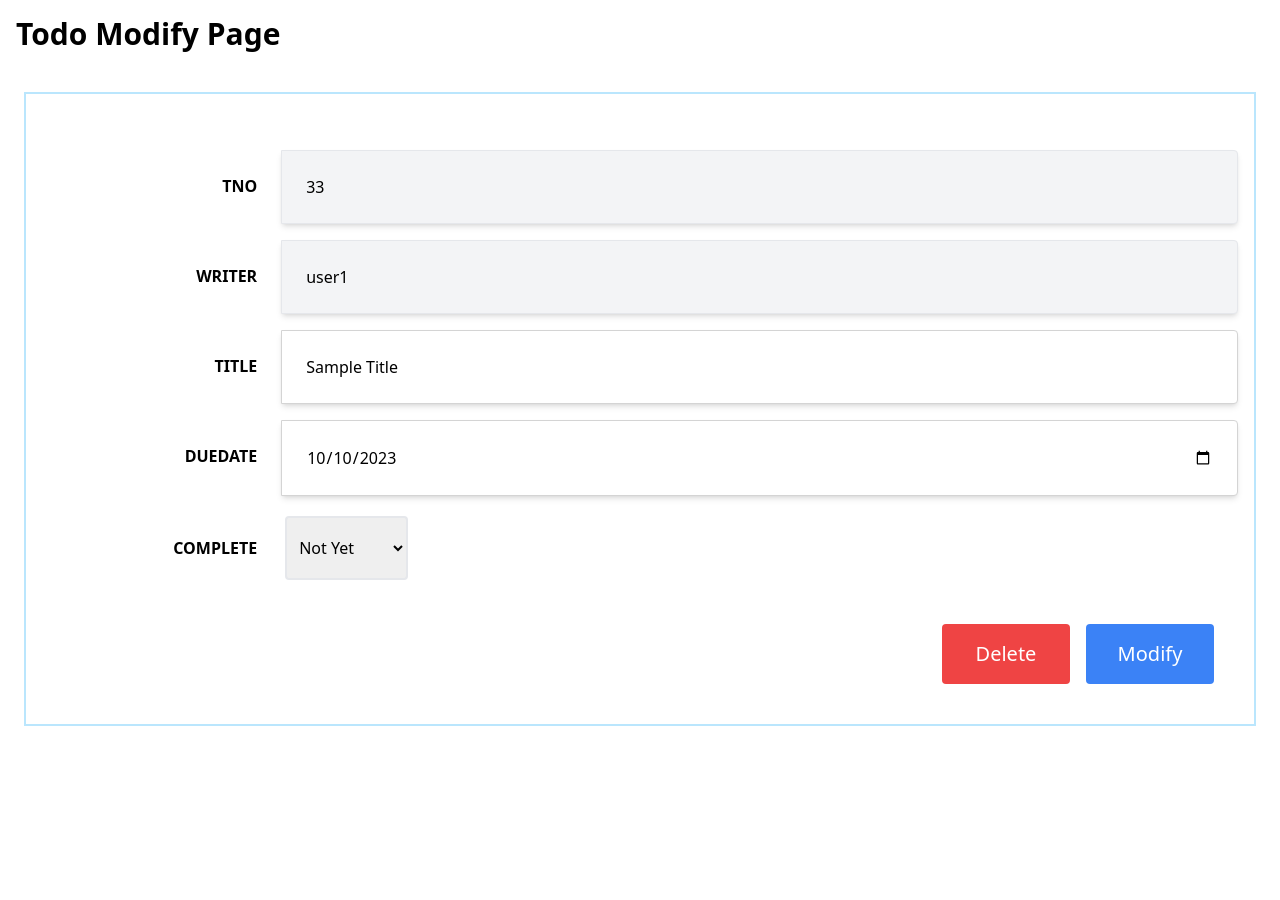
Test: saves changed completion and title, then displays the result modal
This screenshot has width=1280, height=900.
Step 1. Replace the text in the field showing "Sample Title" with "Updated Title" → (760, 367), box top-left (281, 330), bottom-right (1238, 404)
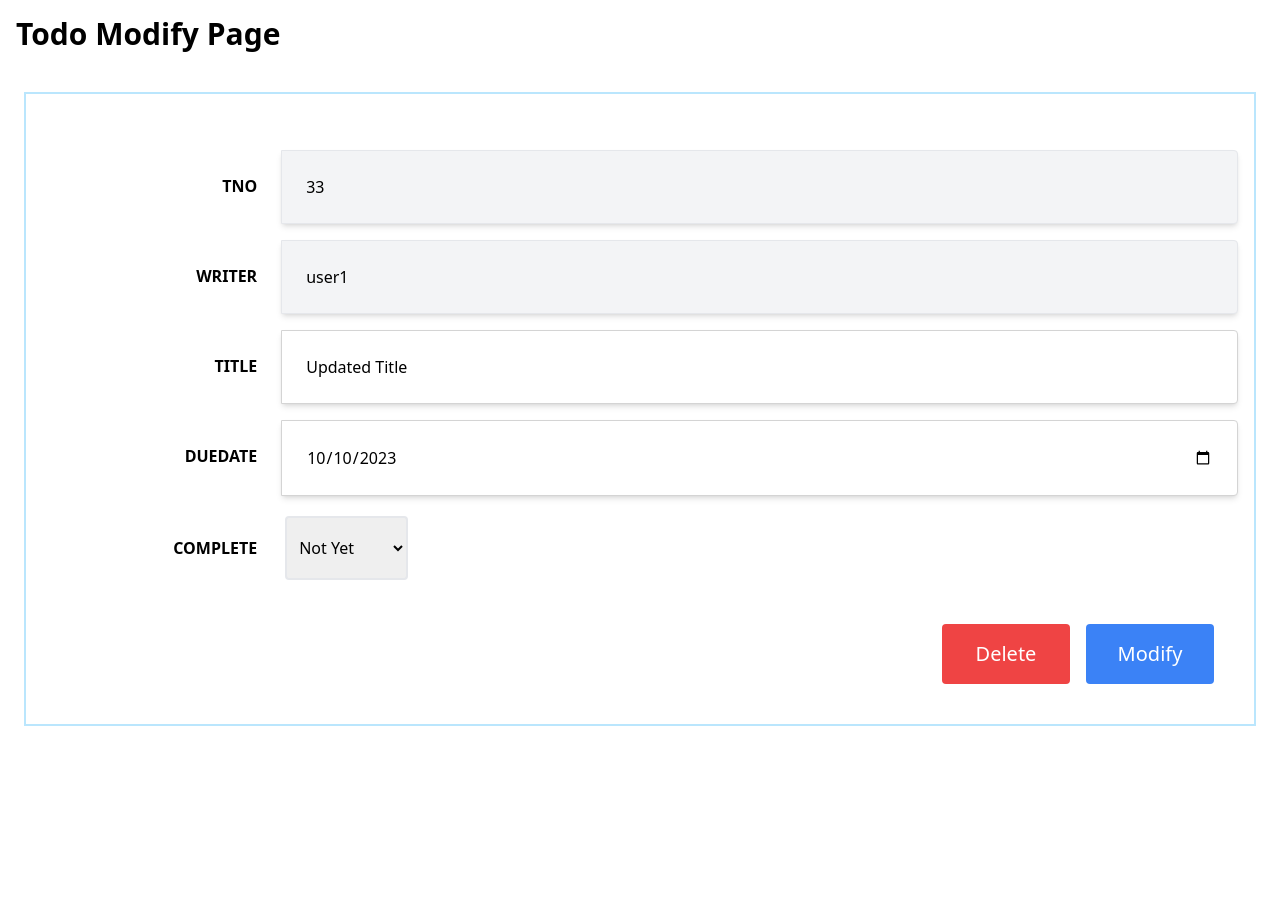
Step 2. Select "Completed" in the dropdown → (347, 548), box top-left (285, 516), bottom-right (408, 580)
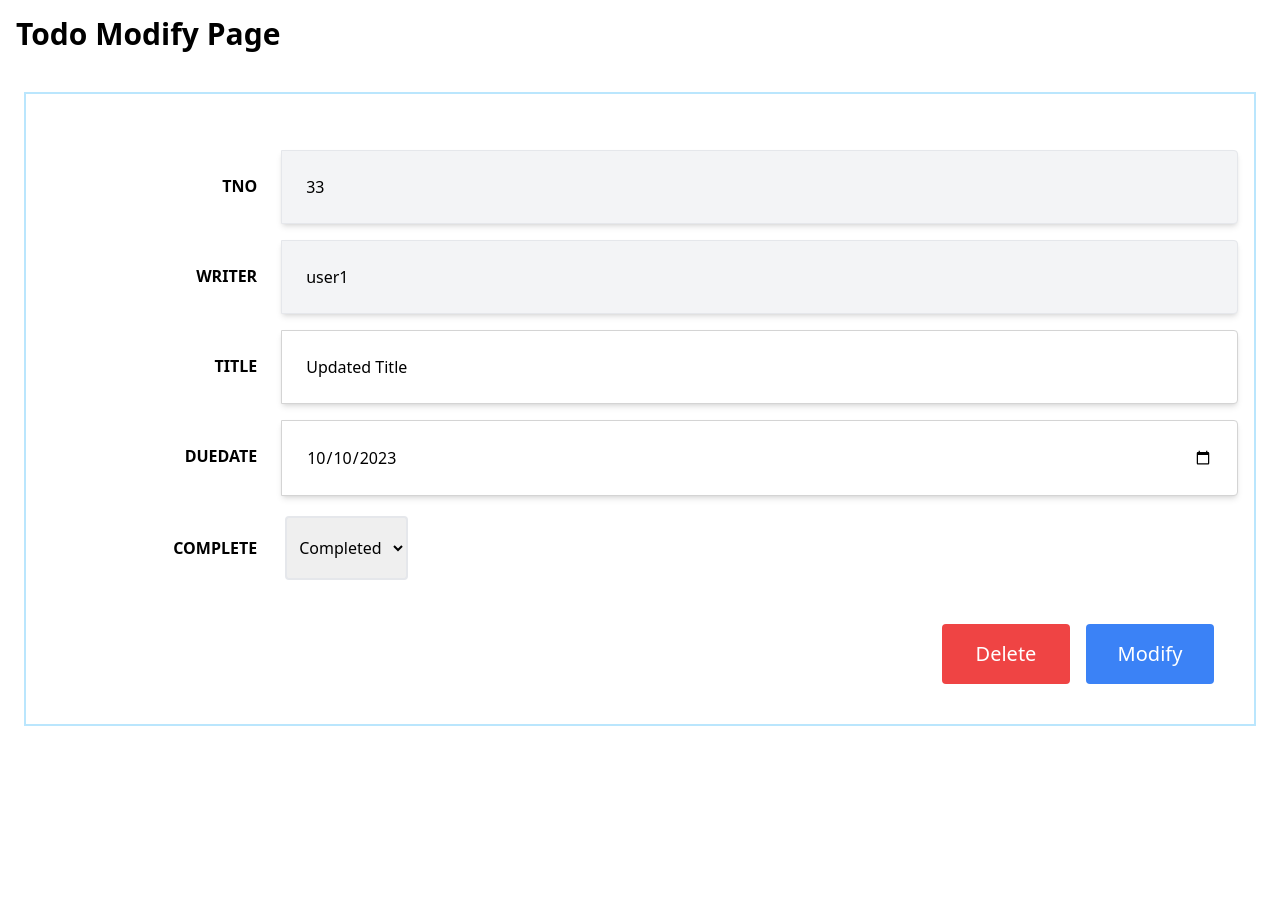
Step 3. Click the button "Modify" → (1150, 654), box top-left (1086, 624), bottom-right (1214, 684)
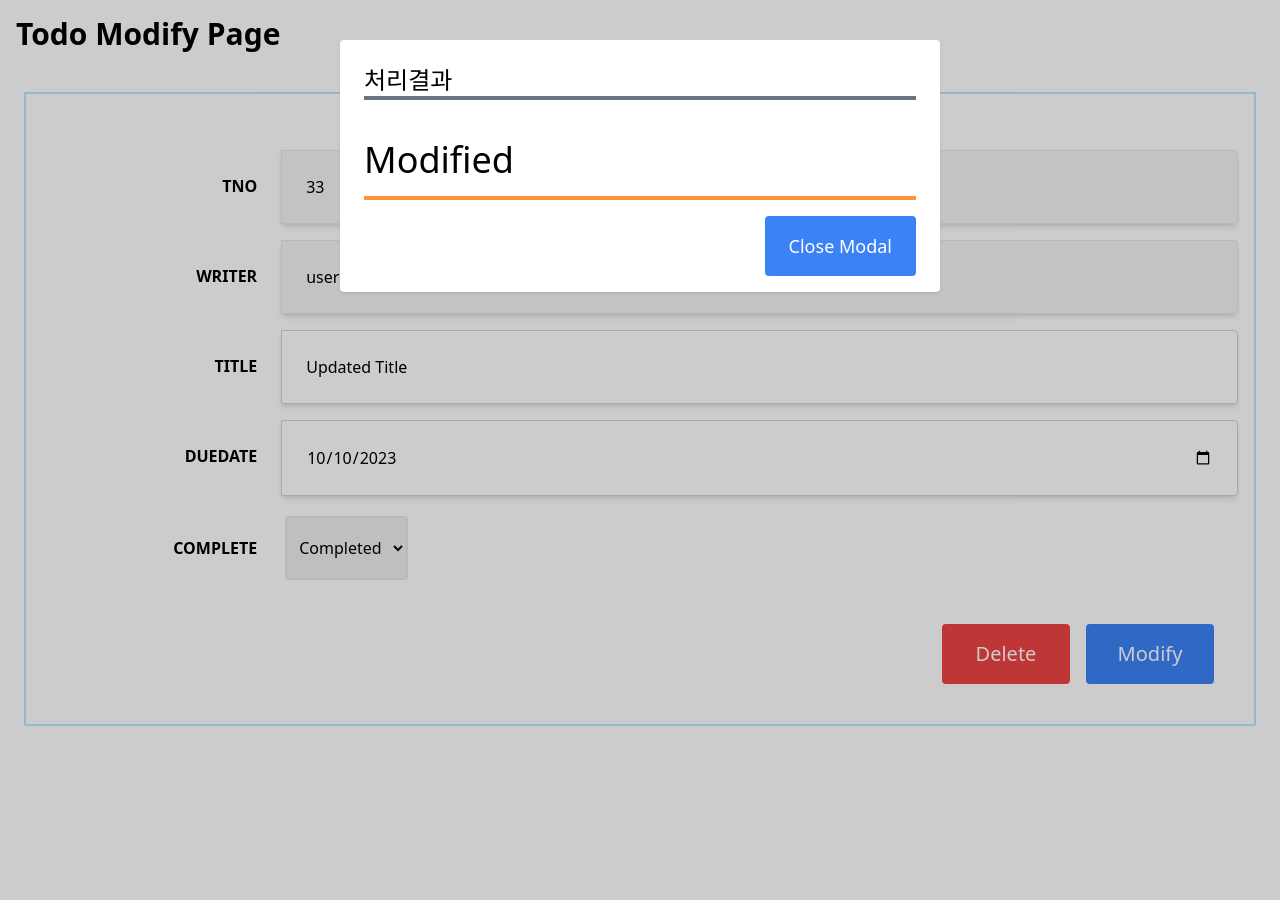
Expected: the dialog shows "Modified", top-left (364, 135), bottom-right (514, 184)
